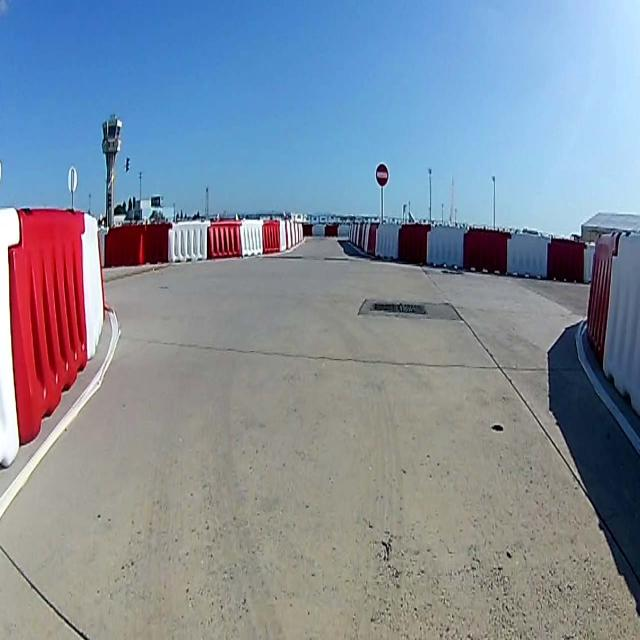girisyok: (376, 163, 388, 186)
